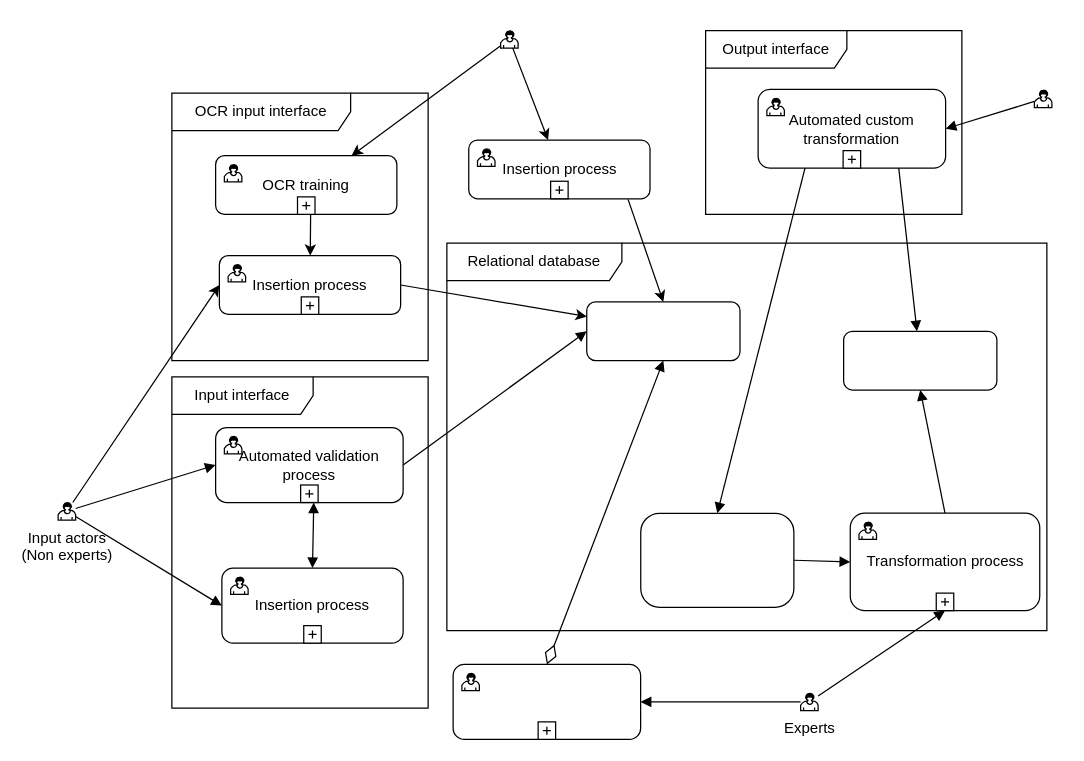
This 1084x761 diagram has some shape labels left out. The centre of each missing label's shape, as x and y in pixels:
"Derived information layer" belongs at point 919,360.
"Input actors (Outsourced)" belongs at point 508,38.
"Original information layer" belongs at point 717,559.
"Staged information layer" belongs at point 663,331.
"Users" belongs at point 1042,98.
"Validation process" belongs at point 546,701.
